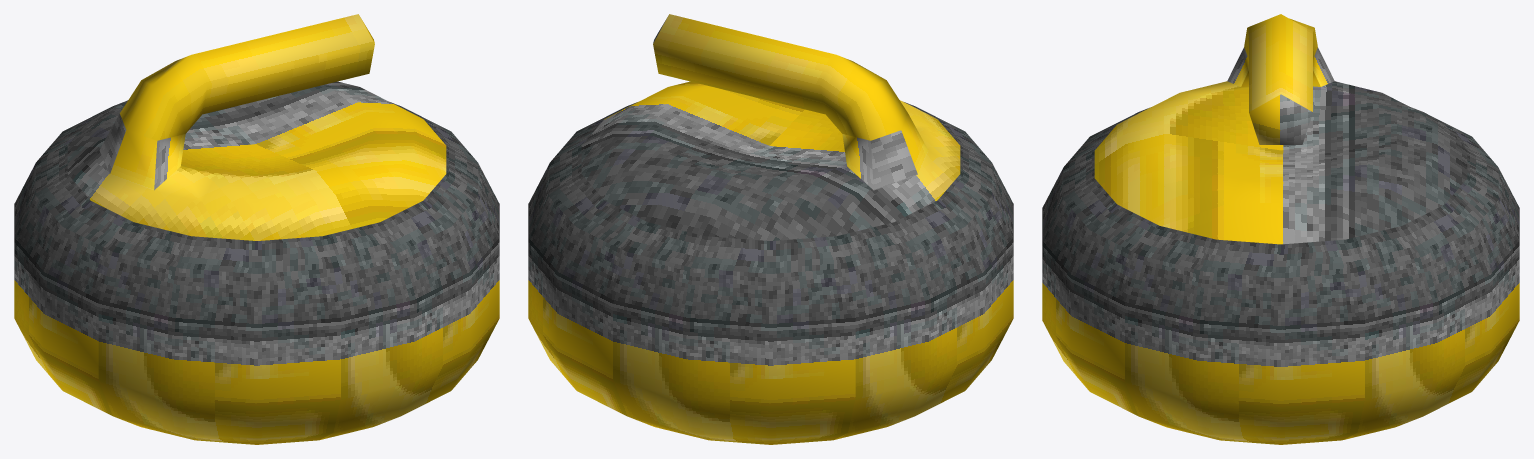
The model's file is rmk_oth_curling.dae.
3 views of the same model, side by side, from view 1: azimuth 30°, elevation 25°; view 2: azimuth 150°, elevation 25°; view 3: azimuth 270°, elevation 25° (orthographic).
Parts seen in each view (by area): view 1: rmk_oth_curling; view 2: rmk_oth_curling; view 3: rmk_oth_curling.
Part boxes in pixels (x1,y1,x2,y2): rmk_oth_curling: [14, 14, 499, 444]; rmk_oth_curling: [528, 14, 1013, 444]; rmk_oth_curling: [1042, 14, 1519, 444].
Size of the model in its own units: 17.15 by 12.65 by 16.89.
Materials: 1 (1 with a texture image).
